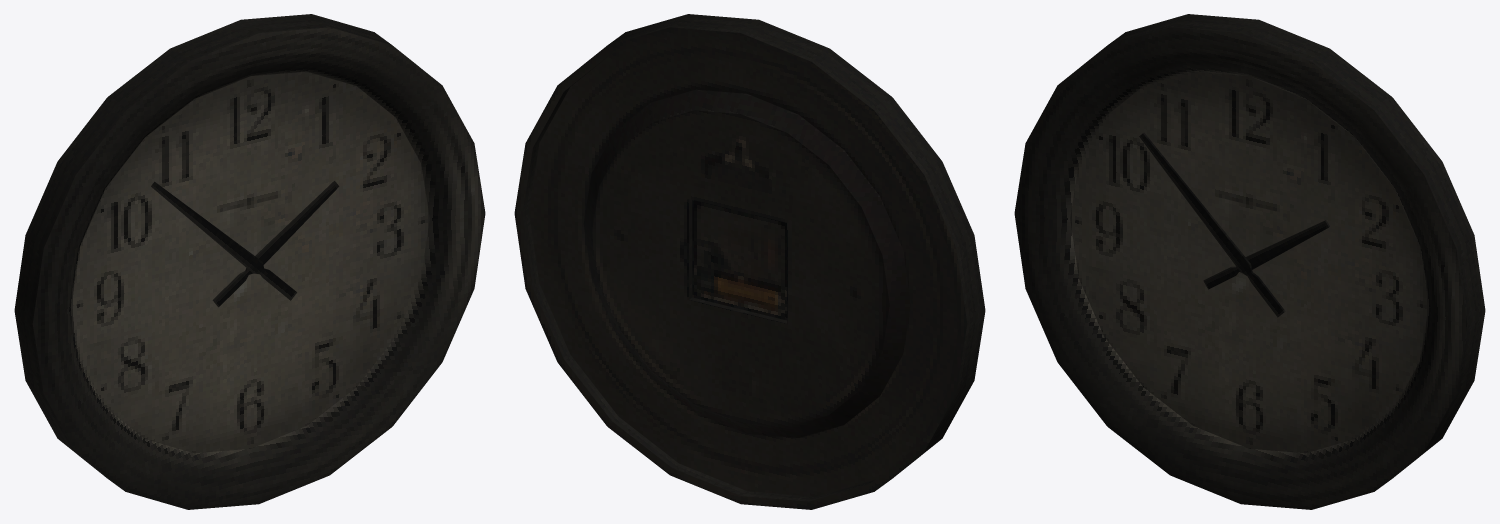
Rendered from clock_2.glb.
3 renders of one model, left to right at view 1: azimuth 30°, elevation 25°; view 2: azimuth 150°, elevation 25°; view 3: azimuth 330°, elevation 25°, orthographic.
Parts seen in each view (by area): view 1: clock_2, clock_2_arm_minutes, clock_2_arm_hours; view 2: clock_2; view 3: clock_2, clock_2_arm_minutes, clock_2_arm_hours.
Part boxes in pixels (x1,y1,x2,y2): clock_2: [14, 14, 485, 509]; clock_2_arm_minutes: [151, 181, 296, 300]; clock_2_arm_hours: [212, 181, 339, 307]; clock_2: [514, 14, 985, 509]; clock_2: [1014, 14, 1485, 509]; clock_2_arm_minutes: [1139, 132, 1285, 317]; clock_2_arm_hours: [1203, 220, 1329, 289].
Size of the model in its own units: 0.2816 by 0.28 by 0.021.
Materials: 1 (1 with a texture image).
